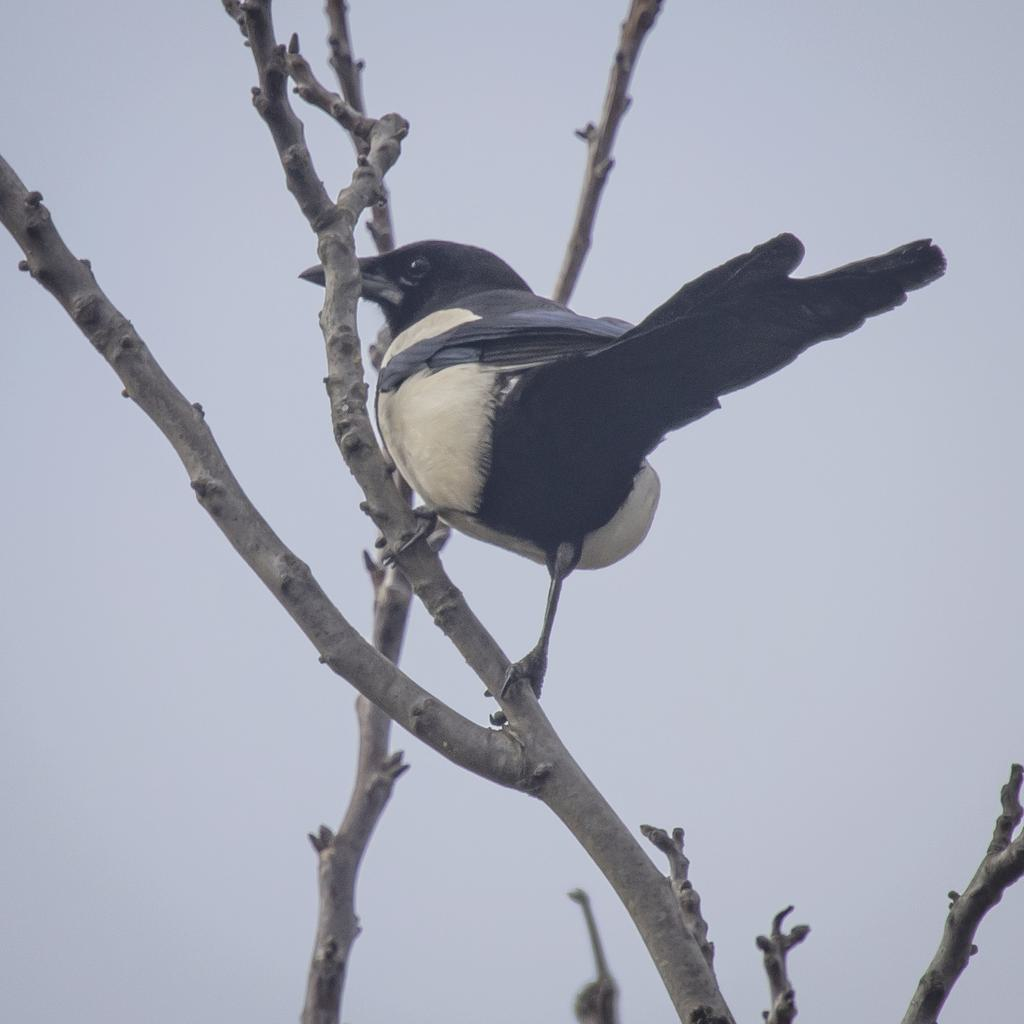PicaPica: (297, 231, 948, 701)
